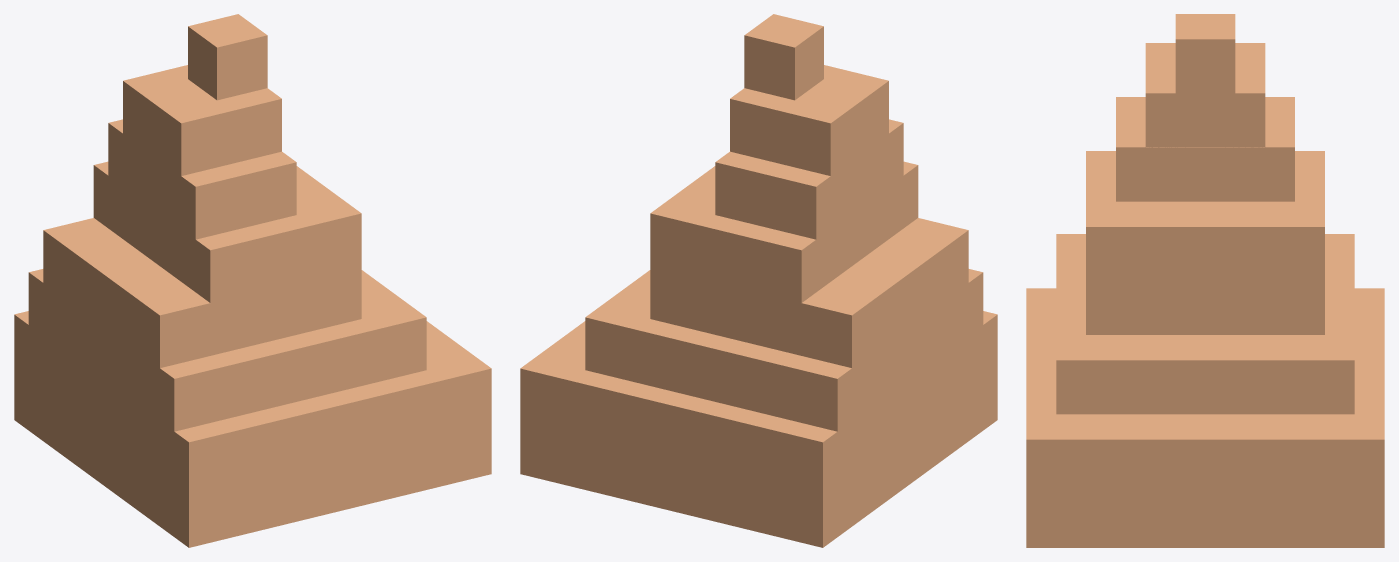
The model's file is sand-stone.obj.
The picture shows the model from 3 angles, left to right: view 1: azimuth 30°, elevation 25°; view 2: azimuth 150°, elevation 25°; view 3: azimuth 270°, elevation 25°; orthographic projection. The views are drawn at different scales.
Bounding box in the file's own units: 6 × 8 × 6.
Materials: 1 (1 with a texture image).
